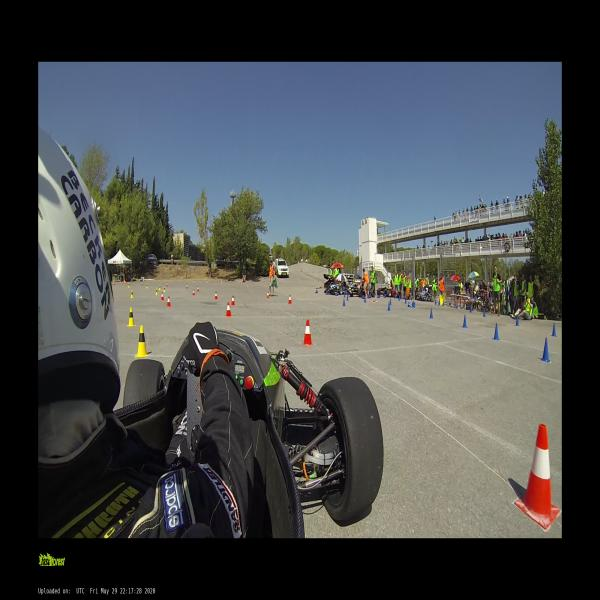blue_cone: (542, 337, 549, 361), (494, 322, 499, 340), (552, 322, 556, 337), (463, 314, 467, 327), (516, 315, 519, 326), (430, 308, 433, 318), (388, 301, 390, 311), (408, 302, 412, 307), (484, 308, 486, 317), (343, 298, 345, 306), (470, 304, 472, 312), (335, 292, 339, 296), (456, 302, 458, 309), (362, 295, 365, 299), (364, 296, 366, 302), (438, 299, 440, 305), (377, 294, 380, 298), (398, 295, 400, 301), (400, 294, 402, 299), (315, 290, 318, 293), (390, 297, 391, 305), (384, 294, 386, 298), (413, 300, 414, 308), (443, 300, 444, 307), (347, 294, 348, 301), (368, 295, 370, 298), (405, 298, 406, 304), (344, 292, 345, 297), (326, 290, 327, 294), (436, 299, 436, 305)
orange_cone: (514, 424, 561, 530), (302, 319, 314, 345), (226, 302, 231, 317), (231, 294, 235, 306), (288, 294, 292, 304), (214, 290, 218, 300), (167, 295, 170, 307), (161, 291, 164, 301), (267, 291, 269, 298), (193, 289, 195, 296), (186, 283, 188, 289), (197, 286, 199, 291), (166, 282, 168, 287), (142, 280, 143, 286), (113, 280, 114, 286)
yellow_cone: (136, 325, 148, 357), (128, 307, 136, 326), (130, 290, 134, 298), (146, 283, 148, 289), (164, 286, 166, 292), (128, 282, 130, 288), (136, 276, 138, 281), (156, 289, 157, 295), (159, 284, 160, 290)
